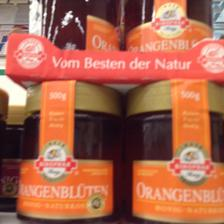Honig: (122, 77, 222, 222), (20, 82, 120, 222)
